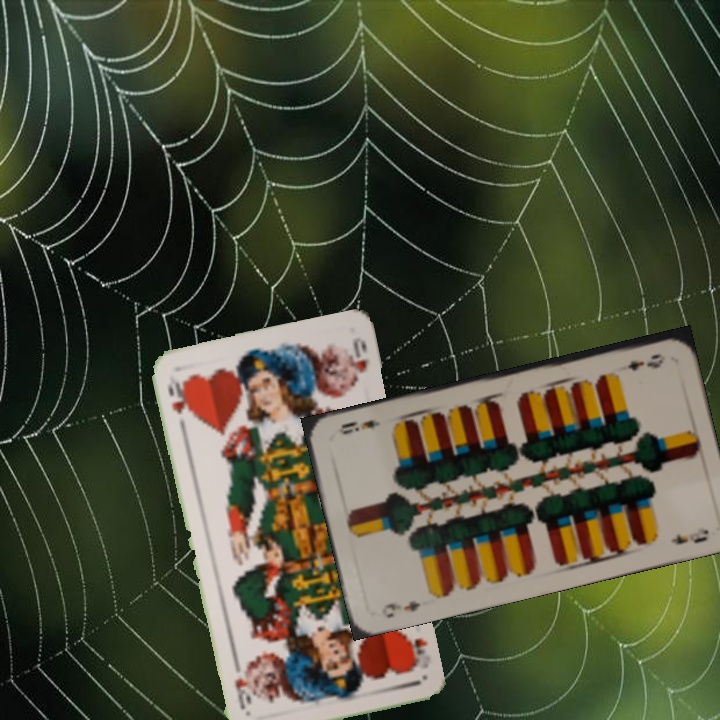E9: (377, 597, 423, 621), (623, 350, 668, 374)
HO: (163, 376, 193, 430), (402, 630, 430, 673)
